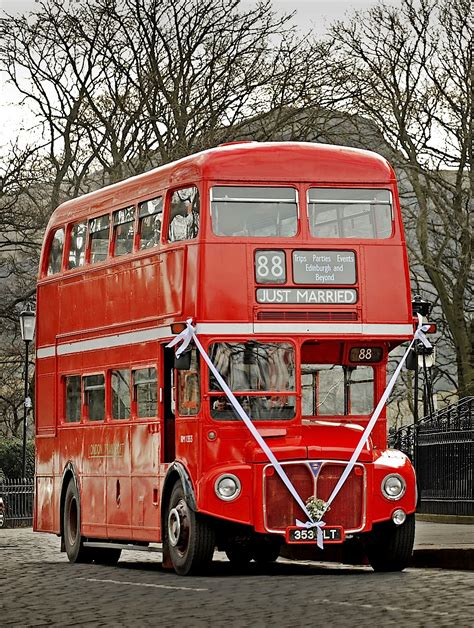bus: (39, 166, 415, 568)
